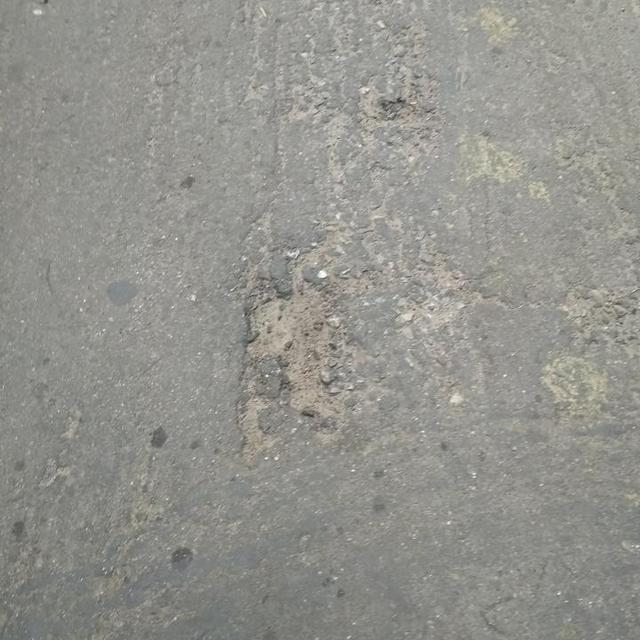Pothole: (231, 275, 368, 448), (377, 95, 431, 126)
